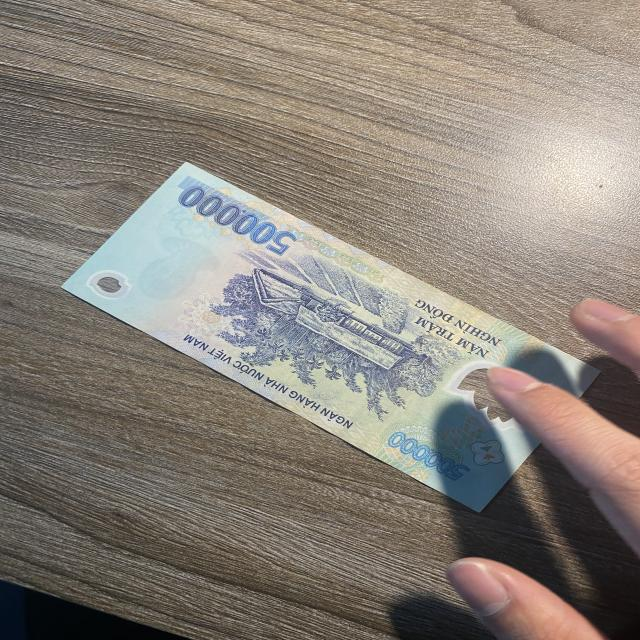500 000 VND: (61, 160, 603, 515)
